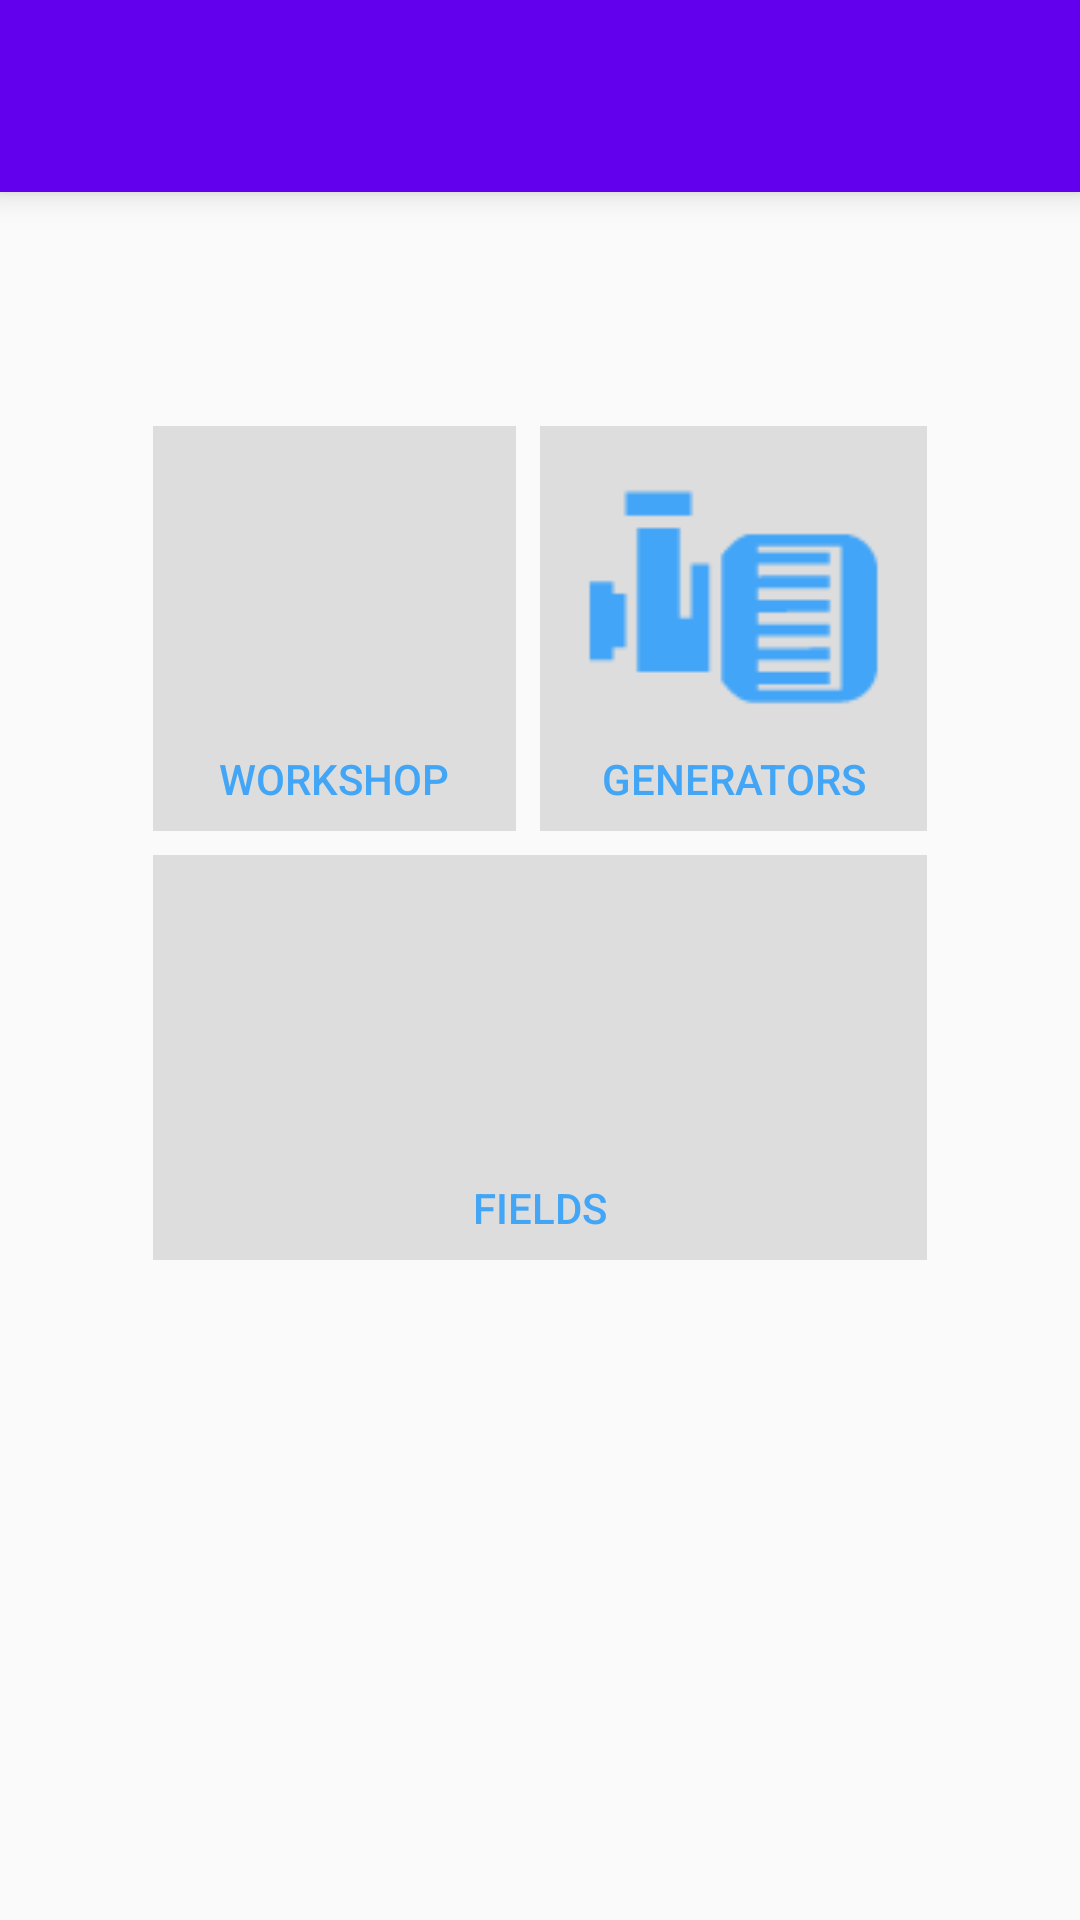

Icons on this 1080 × 1920 Android screen, each with the point to tap as [x,y]:
pump: [733,597]
